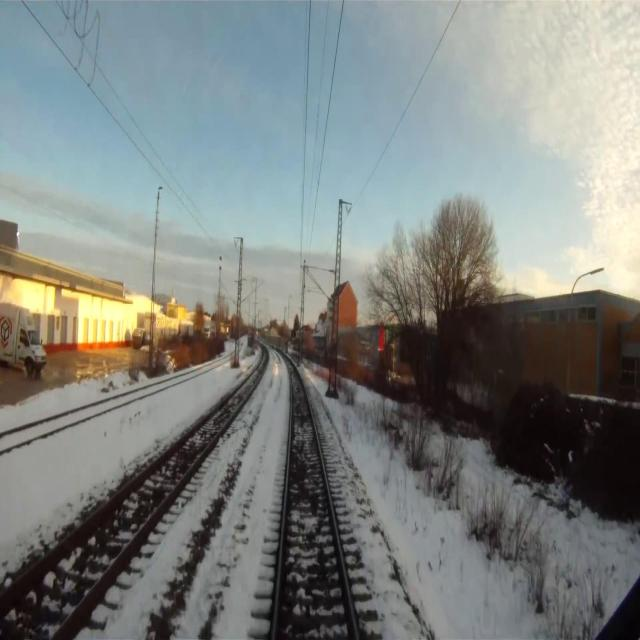rail-track: (0, 349, 266, 639), (277, 360, 355, 639), (0, 375, 188, 448)
